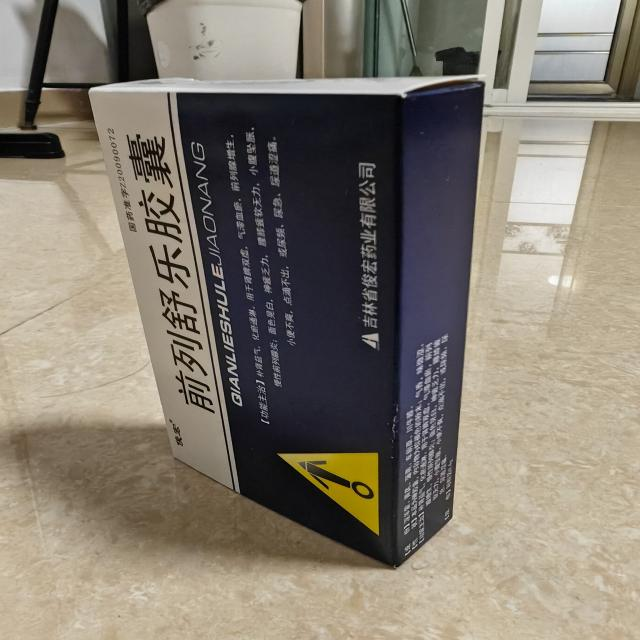box: (78, 69, 491, 577)
